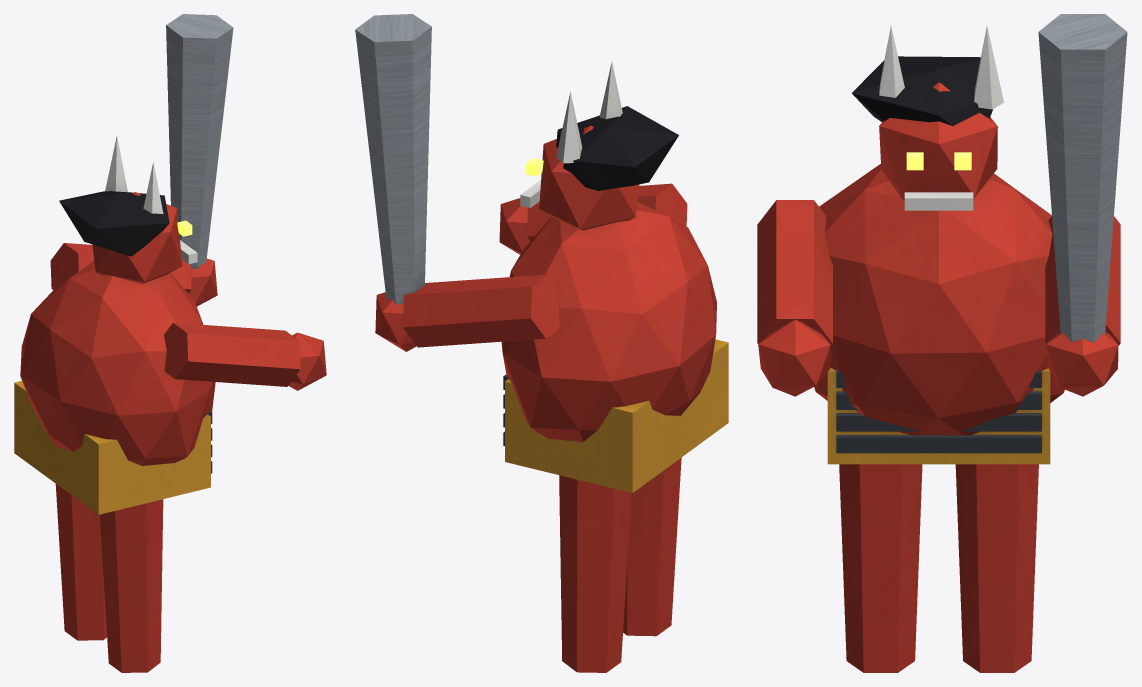
File: oni_tex.glb
The picture shows the model from 3 angles, left to right: view 1: azimuth 30°, elevation 25°; view 2: azimuth 150°, elevation 25°; view 3: azimuth 270°, elevation 25°; orthographic projection. The views are drawn at different scales.
Parts seen in each view (by area): view 1: Kropp, ArmV, BenH, ArmH, BenV; view 2: Kropp, ArmV, BenV, BenH, ArmH; view 3: Kropp, ArmV, BenH, BenV, ArmH.
Boxes of the visible parts, <box> form: Kropp: <box>14,136,215,514</box>; ArmV: <box>50,14,233,306</box>; BenH: <box>99,499,163,672</box>; ArmH: <box>164,322,326,390</box>; BenV: <box>55,484,106,640</box>; Kropp: <box>501,61,728,492</box>; ArmV: <box>355,14,560,351</box>; BenV: <box>559,475,631,672</box>; BenH: <box>623,457,681,636</box>; ArmH: <box>499,183,687,254</box>; Kropp: <box>814,25,1064,464</box>; ArmV: <box>1038,14,1127,396</box>; BenH: <box>839,464,922,672</box>; BenV: <box>955,464,1038,672</box>; ArmH: <box>757,200,832,396</box>.
Bounding box in the file's own units: 1.07 × 2.33 × 1.08.
Materials: 7 (5 with a texture image).
